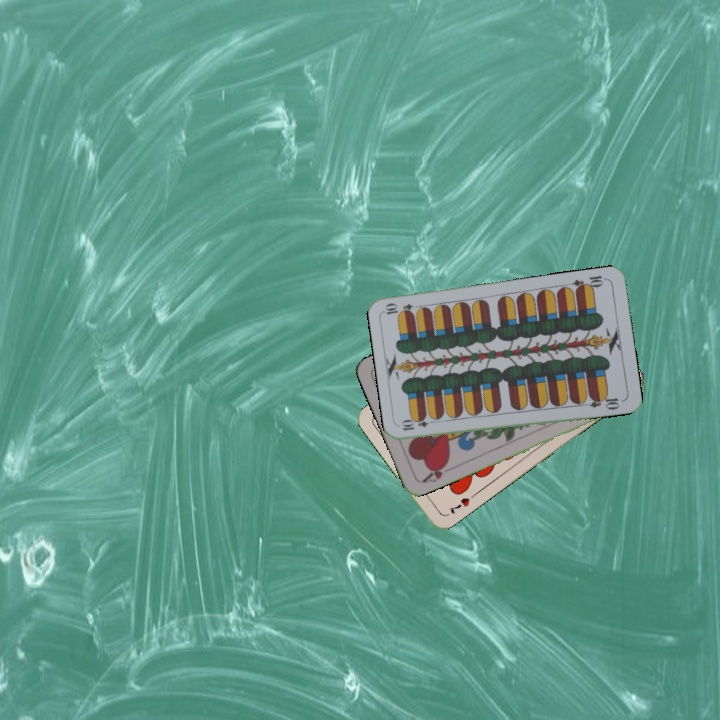E10: (569, 271, 609, 294), (398, 415, 438, 433)
H7: (445, 493, 472, 517)
HA: (418, 458, 456, 485)
